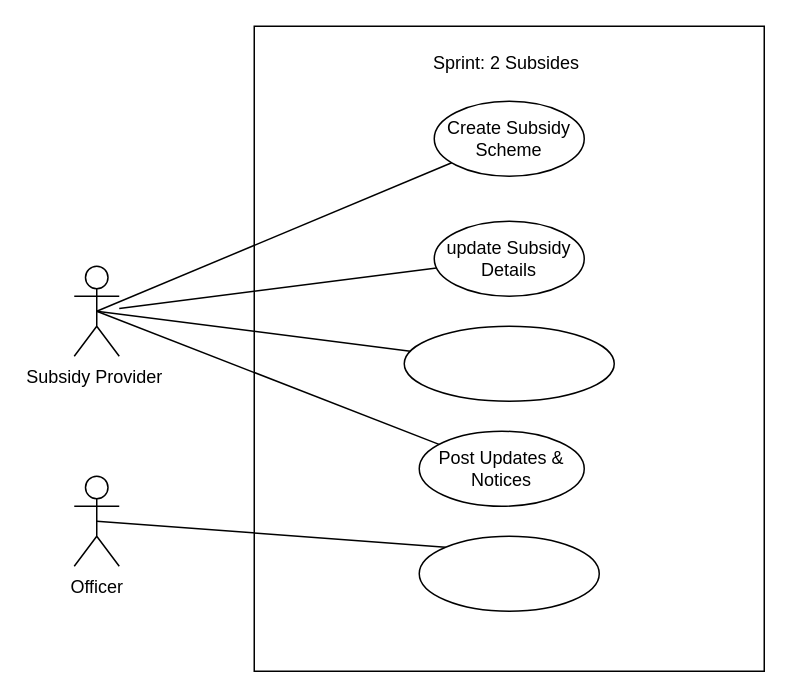
Image size: 791x698. Some labels were removed from this diagram. The shapes that lost their labels are listed below. From the top down, each one's centre as x and y in pixels, then its label:
At pixel 508 363: "Delete / Deactivate subsidy".
At pixel 508 573: "Monitor Applications".
